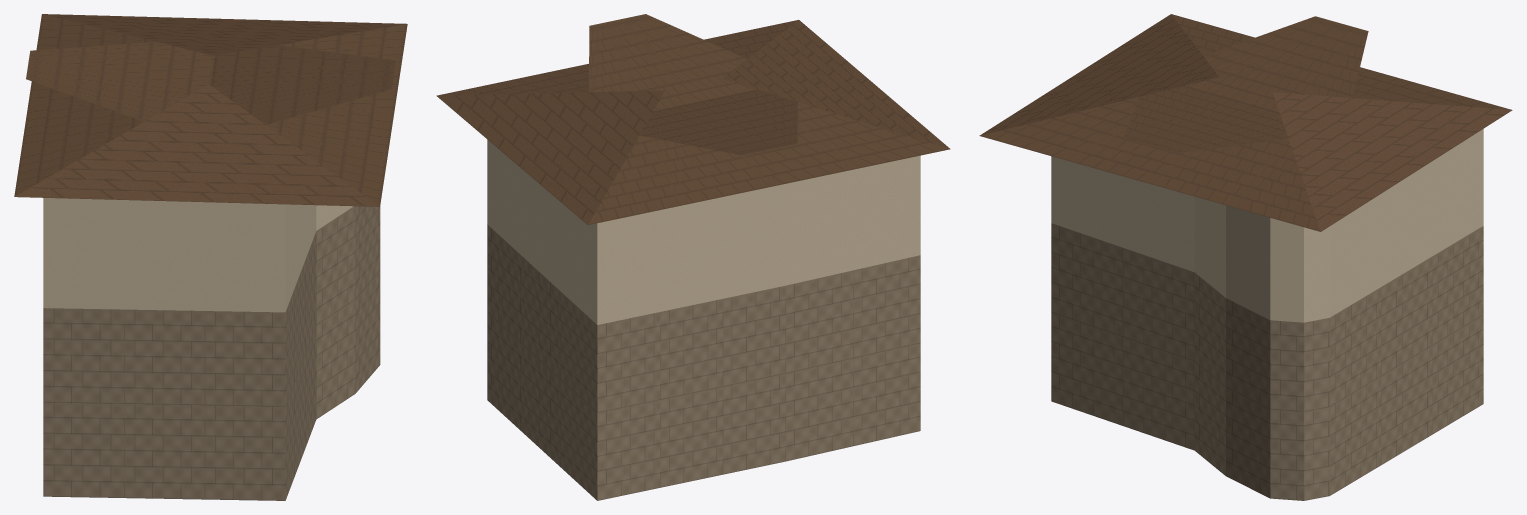
The model's file is bld_c17_28_379.gltf.
The picture shows the model from 3 angles, left to right: view 1: azimuth 30°, elevation 25°; view 2: azimuth 150°, elevation 25°; view 3: azimuth 270°, elevation 25°; orthographic projection. The views are drawn at different scales.
Parts seen in each view (by area): view 1: bld_c17_28_379; view 2: bld_c17_28_379; view 3: bld_c17_28_379.
Part boxes in pixels (x1,y1,x2,y2): bld_c17_28_379: [14, 14, 407, 500]; bld_c17_28_379: [436, 14, 950, 500]; bld_c17_28_379: [979, 14, 1512, 500].
Bounding box in the file's own units: 12.19 × 8.6 × 12.61.
3 materials, 3 textured.
